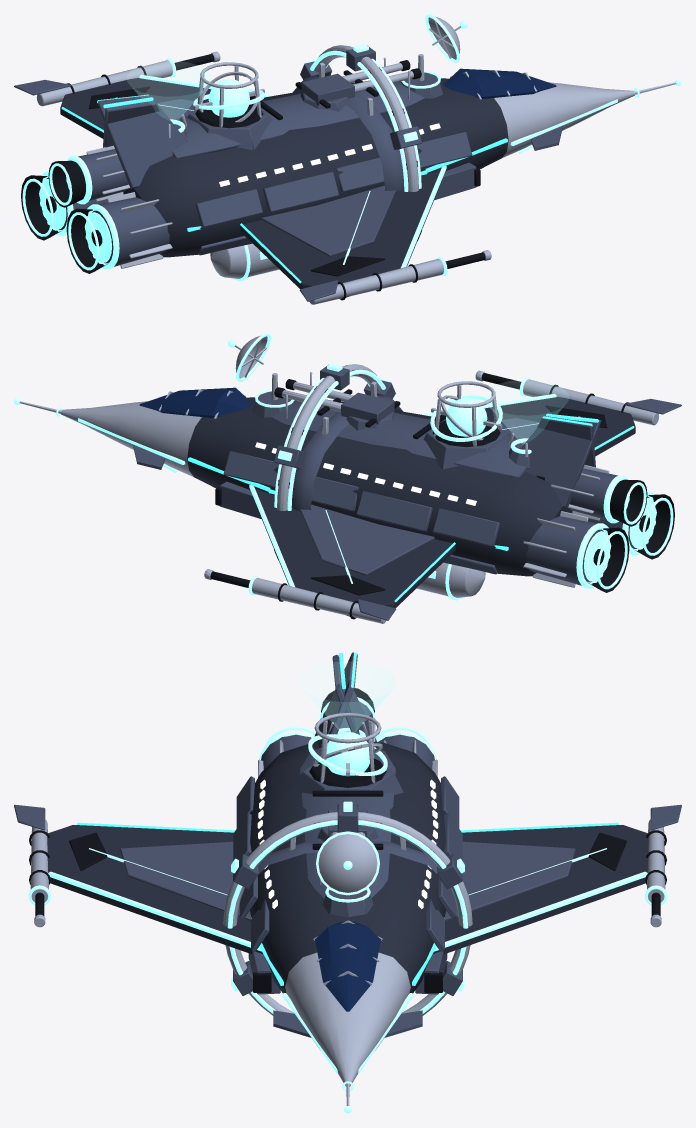
The model's file is orthos.glb.
The picture shows the model from 3 angles, top to bottom: view 1: azimuth 30°, elevation 25°; view 2: azimuth 150°, elevation 25°; view 3: azimuth 270°, elevation 25°; orthographic projection. The views are drawn at different scales.
Parts seen in each view (by area): view 1: Wings, Hull, Engines, Nose, SideArmor, TailFins, DorsalArmor, Ring, ReactorBase, HoloBeam, Turret, RingCollar (+6 smaller); view 2: Wings, Hull, Engines, Nose, SideArmor, DorsalArmor, TailFins, Ring, ReactorBase, HoloBeam, Turret, RingCollar (+7 smaller); view 3: Wings, Hull, Nose, Ring, SideArmor, ReactorBase, DorsalArmor, HoloBeam, Radar, Engines, TailFins, Intakes (+4 smaller).
Part boxes in pixels (x1,y1,x2,y2): Wings: (14,51,491,304); Hull: (123,78,508,257); Engines: (21,145,172,273); Nose: (443,68,681,157); SideArmor: (196,132,472,255); TailFins: (97,94,187,188); DorsalArmor: (172,70,424,158); Ring: (300,44,421,241); ReactorBase: (187,62,272,150); HoloBeam: (127,61,211,124); Turret: (300,60,421,111); RingCollar: (293,62,404,191); Wings: (204,370,681,623); Hull: (187,397,572,576); Engines: (523,465,674,592); Nose: (14,387,252,476); SideArmor: (223,451,499,574); DorsalArmor: (272,389,526,477); TailFins: (520,413,601,507); Ring: (274,363,395,560); ReactorBase: (423,381,508,469); HoloBeam: (484,380,568,444); Turret: (274,379,395,430); RingCollar: (291,381,402,510); Wings: (14,804,681,954); Hull: (249,742,446,993); Nose: (273,920,422,1113); Ring: (223,801,472,1015); SideArmor: (233,776,462,951); ReactorBase: (292,713,403,796); DorsalArmor: (300,747,395,898); HoloBeam: (300,661,395,732); Radar: (316,831,379,895); Engines: (258,688,437,777); TailFins: (314,652,376,748); Intakes: (248,951,447,994).
Size of the model in its own units: 10.38 by 3.61 by 8.5.
